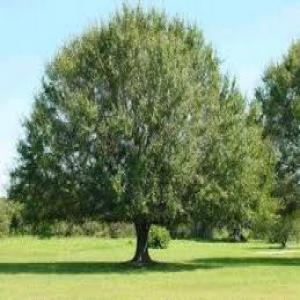Tree: (4, 8, 279, 260)
